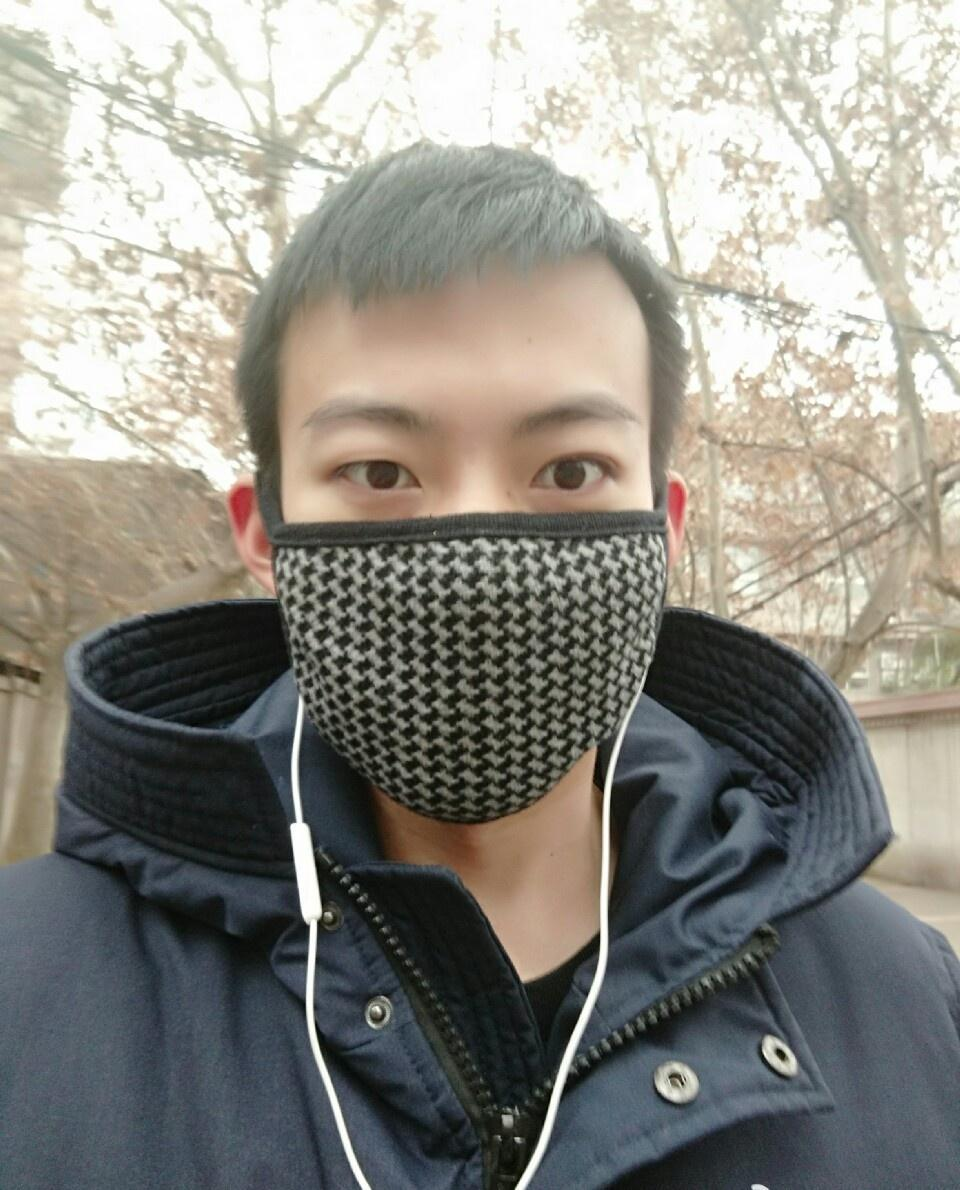OK: (267, 371, 662, 818)
